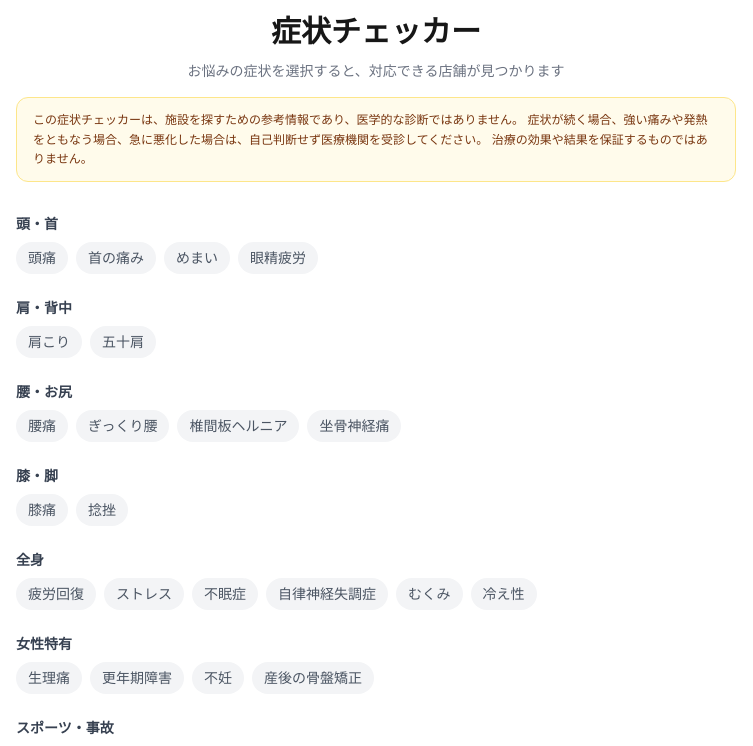
Test: 件数の取得に失敗したら「0件」と出さず、検索失敗として再試行を促す
Step 1. Click the button "腰痛" → x=42, y=426, box top-left (16, 410), bottom-right (68, 442)
(page scrolled)
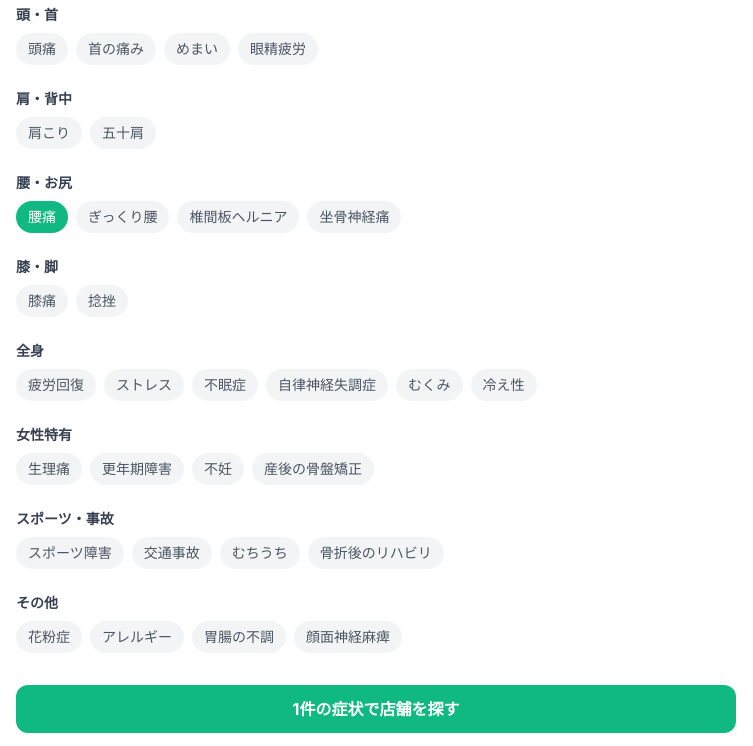
Step 2. Click the button "1件の症状で店舗を探す" → x=376, y=708, box top-left (16, 684), bottom-right (736, 732)
(page scrolled)
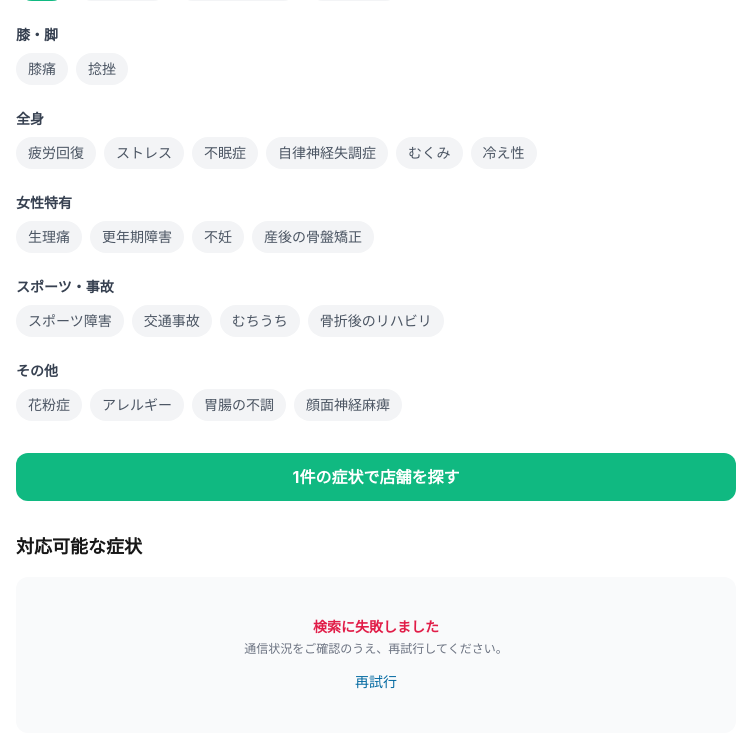
expect the heading "対応可能な症状" is shown: met, box top-left (16, 536), bottom-right (142, 556)
expect the message shows "検索に失敗しました": met, box top-left (313, 618), bottom-right (439, 634)
